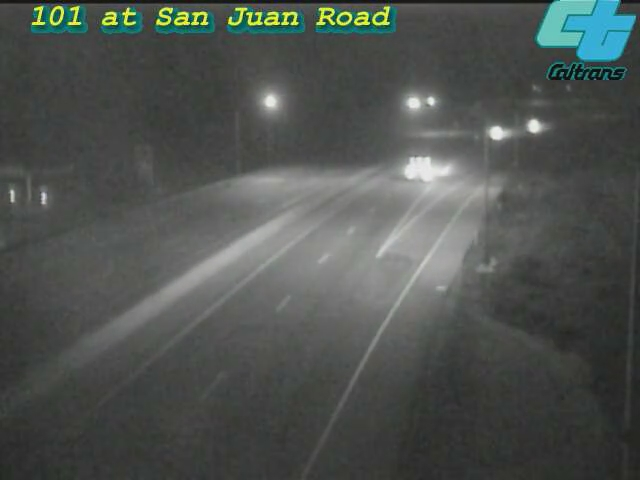vehicle: (382, 124, 462, 204), (506, 101, 556, 151), (467, 108, 517, 158)
